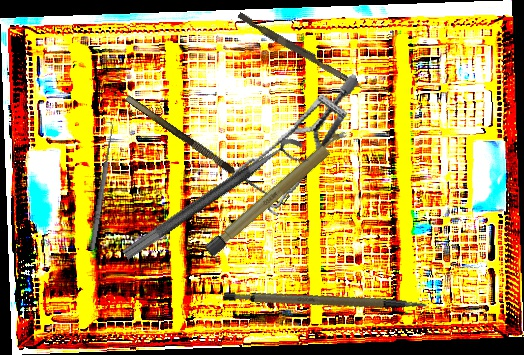Fixation Ring: (120, 132, 313, 276)
Hook Surgical: (124, 86, 291, 210), (84, 121, 117, 251)
Pusher: (235, 11, 366, 91)
Scalpel Handle: (203, 126, 352, 259), (222, 264, 429, 342)
Speculum: (212, 73, 387, 226)
